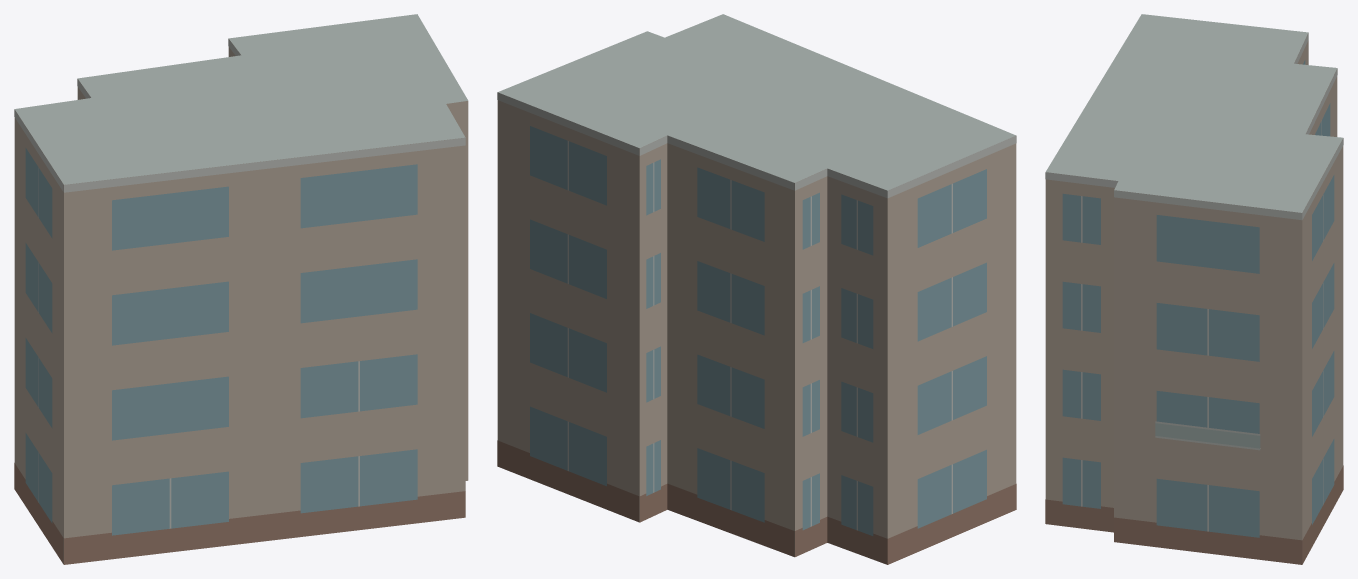
File: survey-upis-32801232.glb
3 renders of one model, left to right at view 1: azimuth 30°, elevation 25°; view 2: azimuth 150°, elevation 25°; view 3: azimuth 270°, elevation 25°, orthographic. The views are drawn at different scales.
Visible parts, largest first — view 1: survey-upis-32801232.tmp; view 2: survey-upis-32801232.tmp; view 3: survey-upis-32801232.tmp.
Boxes of the visible parts, x1,y1,x2,y2 form: survey-upis-32801232.tmp: (14,14,468,564); survey-upis-32801232.tmp: (497,14,1016,564); survey-upis-32801232.tmp: (1045,14,1343,564).
Bounding box in the file's own units: 14.32 × 11.8 × 9.07.
